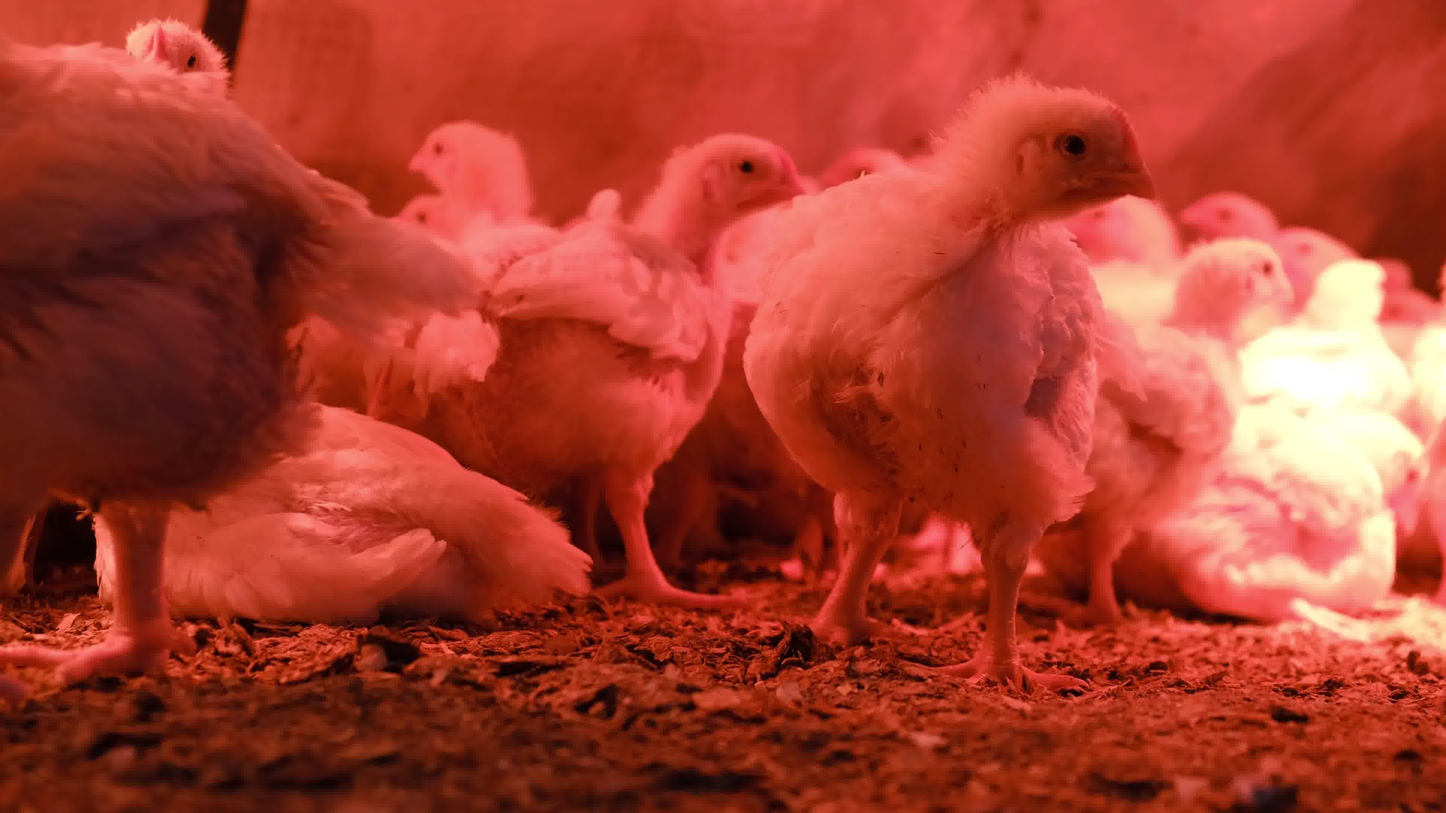AbNormal: (88, 399, 592, 623), (1117, 411, 1433, 620)
Normal: (0, 30, 486, 693), (742, 78, 1156, 697), (456, 132, 808, 602), (1021, 238, 1300, 632), (1237, 260, 1416, 414), (411, 121, 539, 256), (119, 17, 241, 113), (388, 181, 478, 273)
